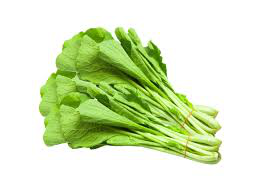Sawi: (32, 27, 232, 175)
